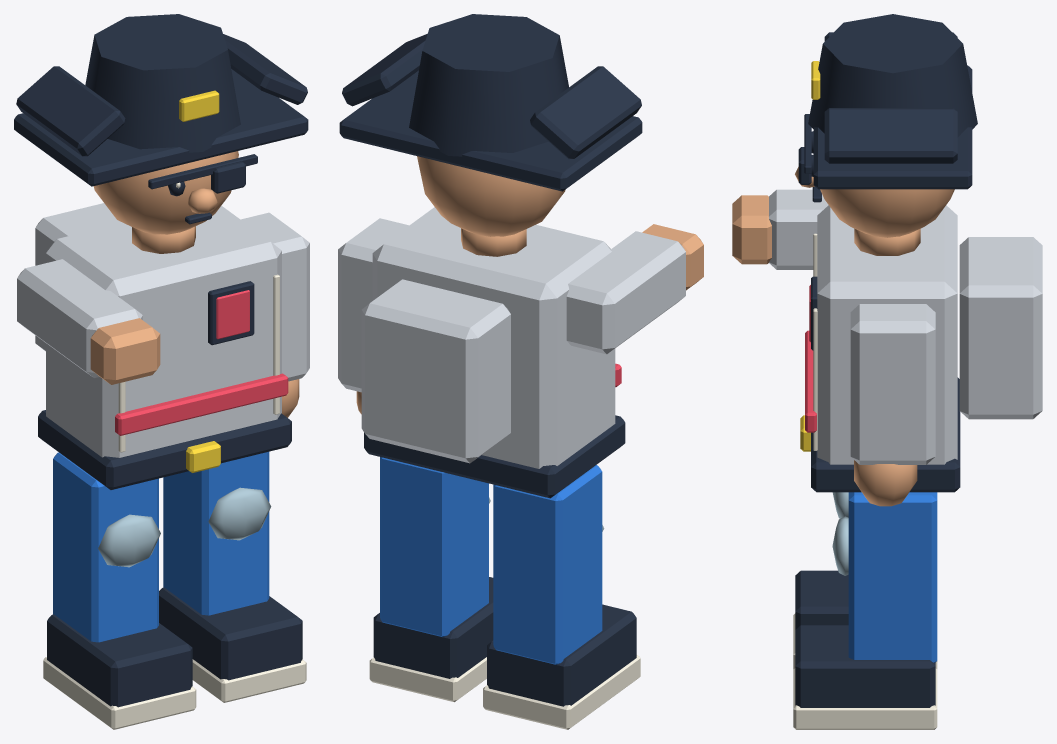
The model's file is fps_char_2.glb.
3 renders of one model, left to right at view 1: azimuth 30°, elevation 25°; view 2: azimuth 150°, elevation 25°; view 3: azimuth 270°, elevation 25°, orthographic. The views are drawn at different scales.
Visible parts, largest first — view 1: detail_Ink navy, detail_Paint, leg_r, leg_l, detail_Coral, arm_l, head_core, right_hand, detail_Lemon, detail_Warm vinyl, detail_Vanilla plastic; view 2: detail_Paint, detail_Ink navy, leg_r, leg_l, head_core, arm_l, right_hand, detail_Warm vinyl; view 3: detail_Paint, detail_Ink navy, leg_l, arm_l, head_core, leg_r, right_hand, detail_Warm vinyl, detail_Coral, detail_Vanilla plastic, detail_Lemon.
Part boxes in pixels (bbox=[...]): detail_Ink navy: bbox=[14, 14, 308, 489]; detail_Paint: bbox=[17, 203, 281, 457]; leg_r: bbox=[43, 452, 196, 729]; leg_l: bbox=[159, 451, 306, 702]; detail_Coral: bbox=[115, 290, 288, 435]; arm_l: bbox=[241, 212, 309, 417]; head_core: bbox=[93, 151, 238, 234]; right_hand: bbox=[90, 318, 160, 384]; detail_Lemon: bbox=[179, 90, 220, 472]; detail_Warm vinyl: bbox=[132, 188, 217, 253]; detail_Vanilla plastic: bbox=[118, 182, 279, 452]; detail_Paint: bbox=[361, 207, 685, 468]; detail_Ink navy: bbox=[339, 14, 642, 498]; leg_r: bbox=[483, 465, 640, 729]; leg_l: bbox=[369, 457, 493, 702]; head_core: bbox=[417, 156, 565, 236]; arm_l: bbox=[338, 218, 408, 414]; right_hand: bbox=[642, 224, 703, 290]; detail_Warm vinyl: bbox=[461, 228, 526, 256]; detail_Paint: bbox=[769, 189, 1042, 464]; detail_Ink navy: bbox=[798, 14, 977, 492]; leg_l: bbox=[793, 492, 937, 729]; arm_l: bbox=[850, 304, 935, 506]; head_core: bbox=[820, 189, 954, 237]; leg_r: bbox=[793, 492, 937, 668]; right_hand: bbox=[732, 195, 771, 264]; detail_Warm vinyl: bbox=[795, 167, 920, 255]; detail_Coral: bbox=[805, 285, 816, 432]; detail_Vanilla plastic: bbox=[813, 233, 817, 450]; detail_Lemon: bbox=[800, 61, 820, 451].
Size of the model in its own units: 0.84 by 1.91 by 0.84.
